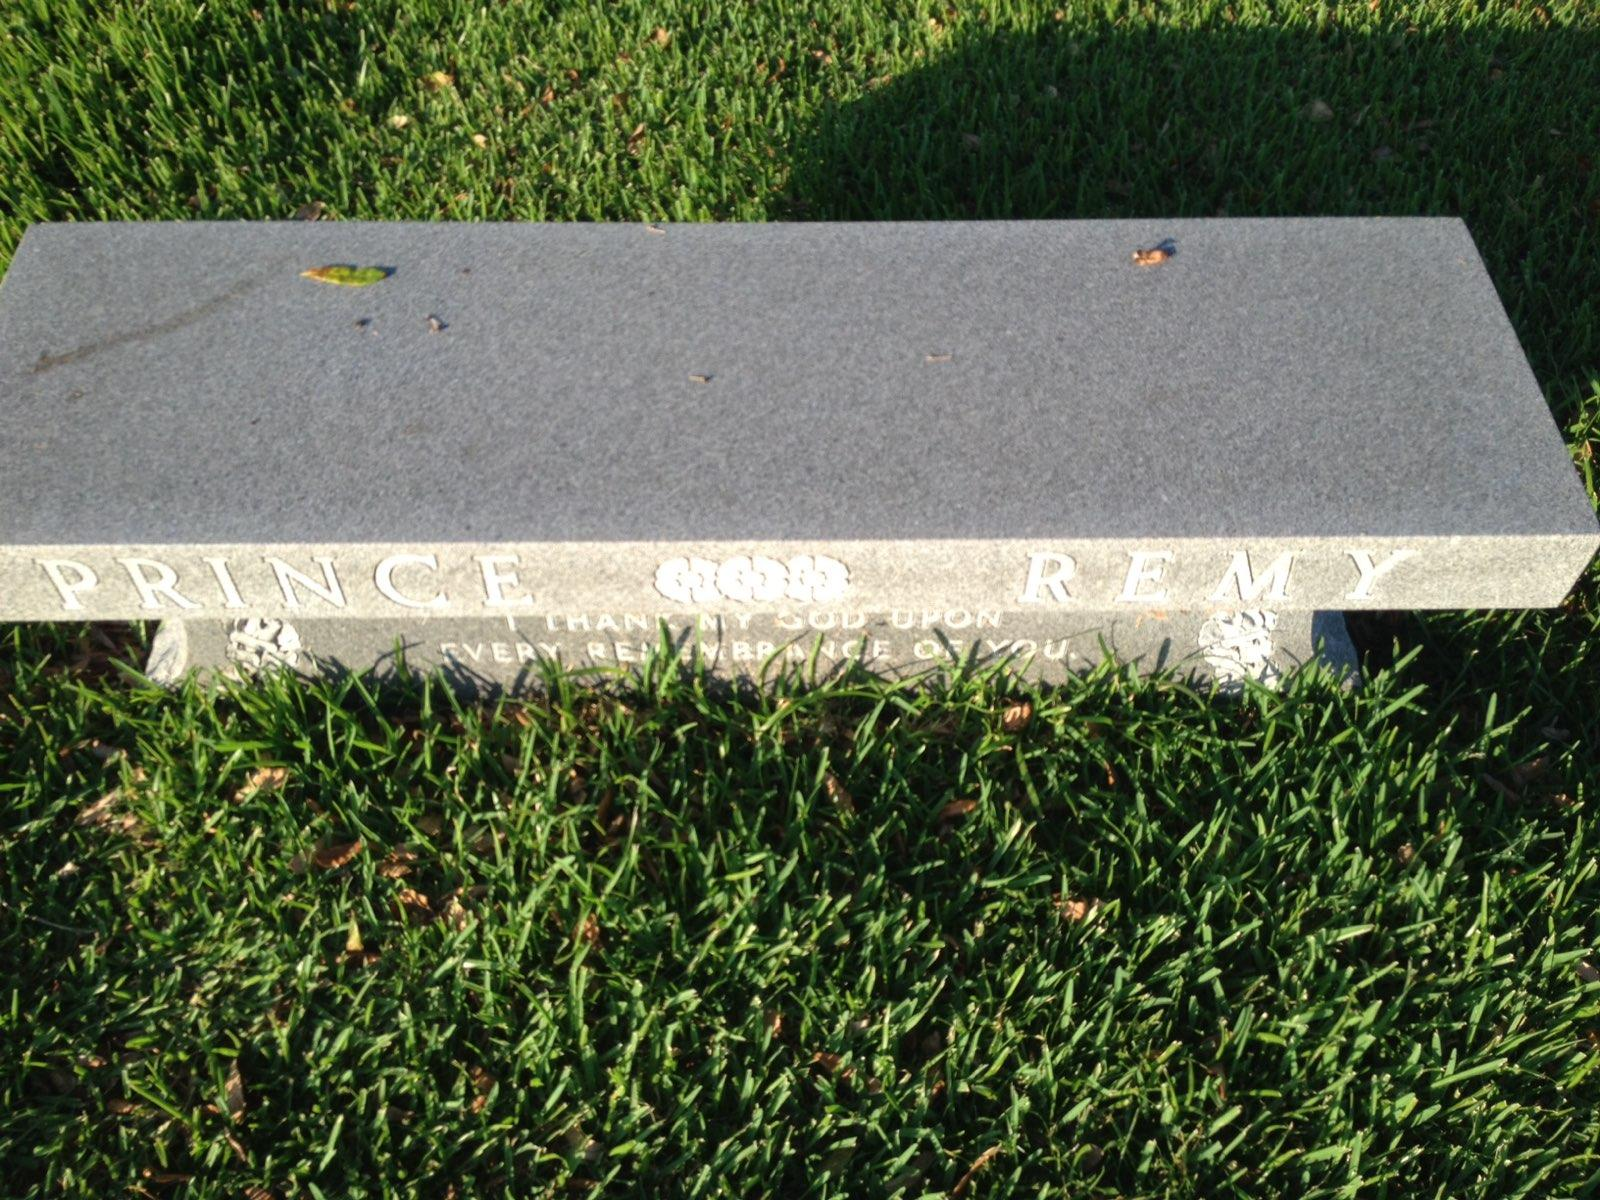upright: (0, 216, 1591, 708)
